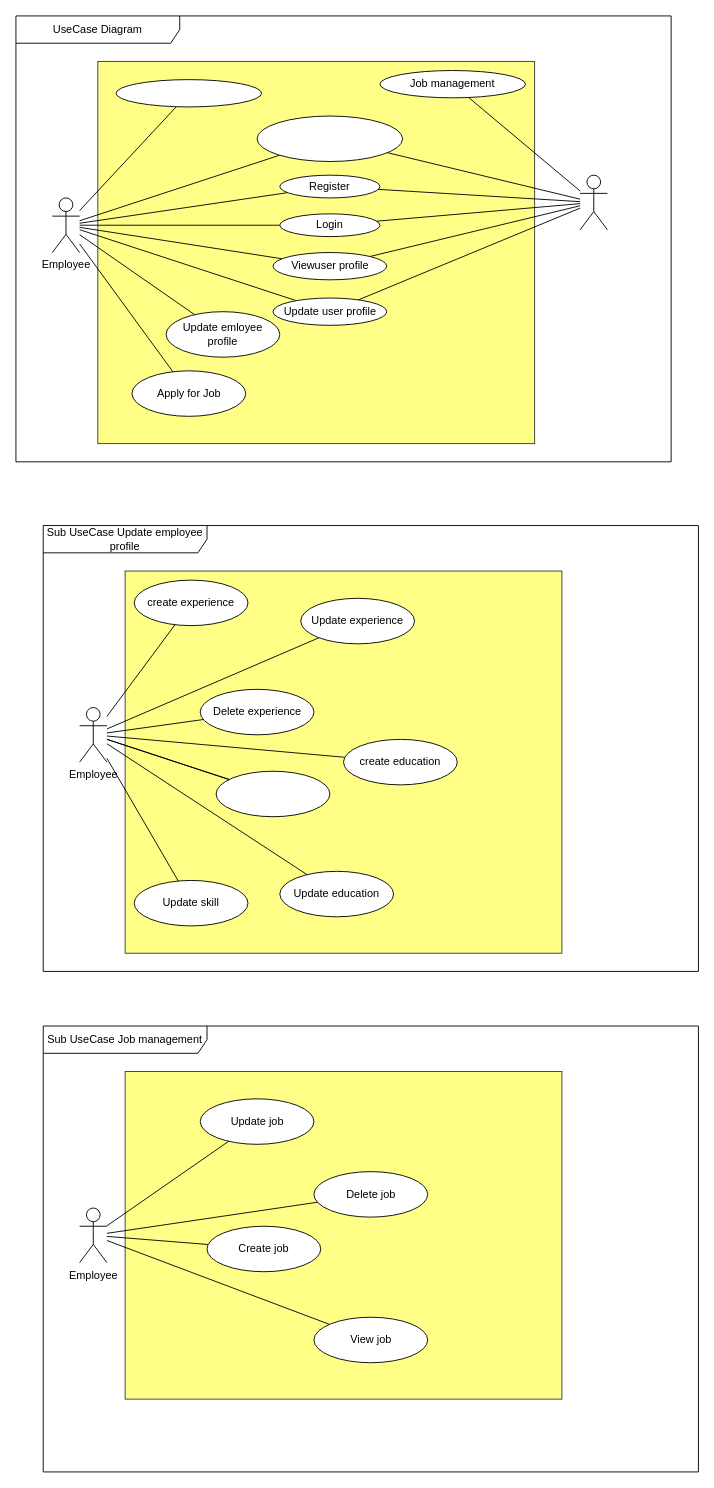
This 714x1488 diagram has some shape labels left out. Here are the shapes that lost their labels. From the top down, the centre of each, then its label:
At (x=188, y=93): "Get job recommendation".
At (x=329, y=138): "View job detail information".
At (x=593, y=202): "Employer".
At (x=272, y=793): "Delete education".
